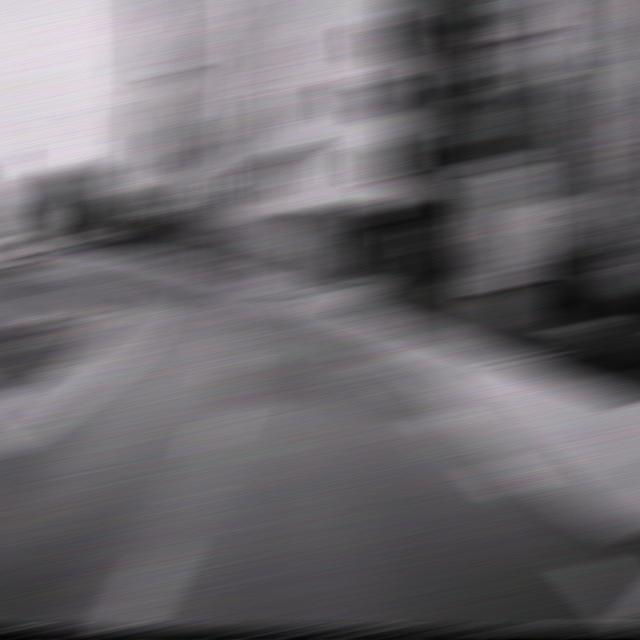stop: (76, 190, 116, 220), (353, 197, 391, 224)
